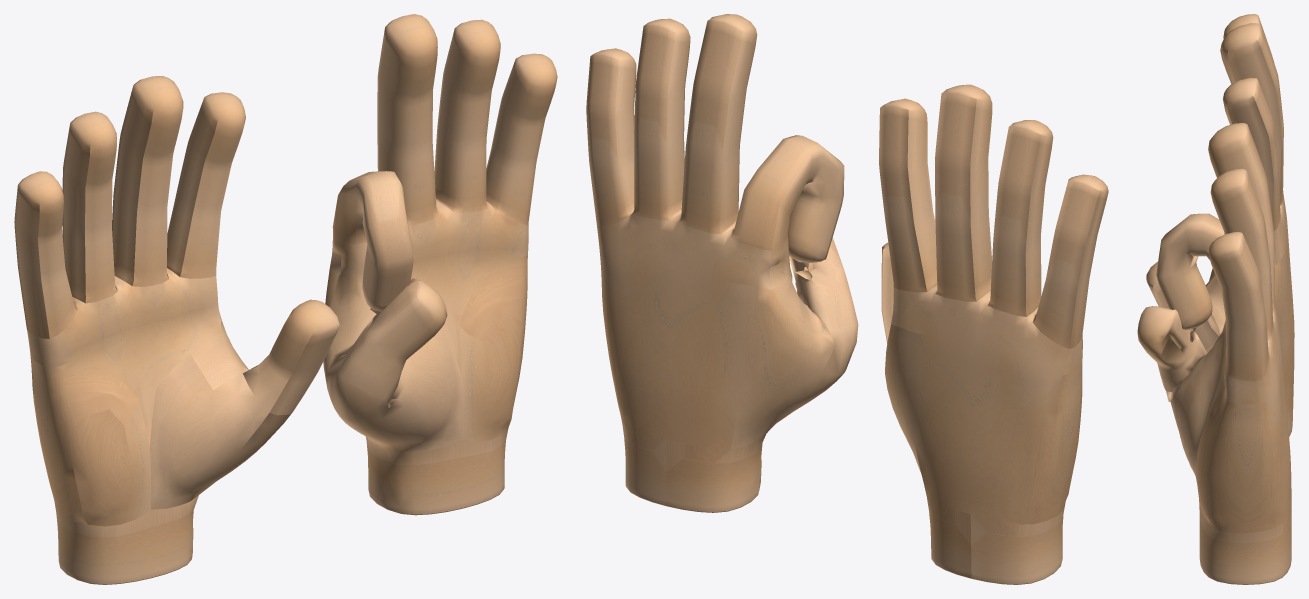
Rendered from manoocho8.fbx.
The picture shows the model from 3 angles, left to right: view 1: azimuth 30°, elevation 25°; view 2: azimuth 150°, elevation 25°; view 3: azimuth 270°, elevation 25°; orthographic projection. The views are drawn at different scales.
Parts seen in each view (by area): view 1: uploads_files_810024_Hand; view 2: uploads_files_810024_Hand; view 3: uploads_files_810024_Hand.
Boxes of the visible parts, x1,y1,x2,y2 form: uploads_files_810024_Hand: (14, 14, 557, 584); uploads_files_810024_Hand: (586, 14, 1108, 584); uploads_files_810024_Hand: (1137, 14, 1294, 584).
Size of the model in its own units: 3.12 by 2.73 by 0.9248.
Materials: 1 (1 with a texture image).
